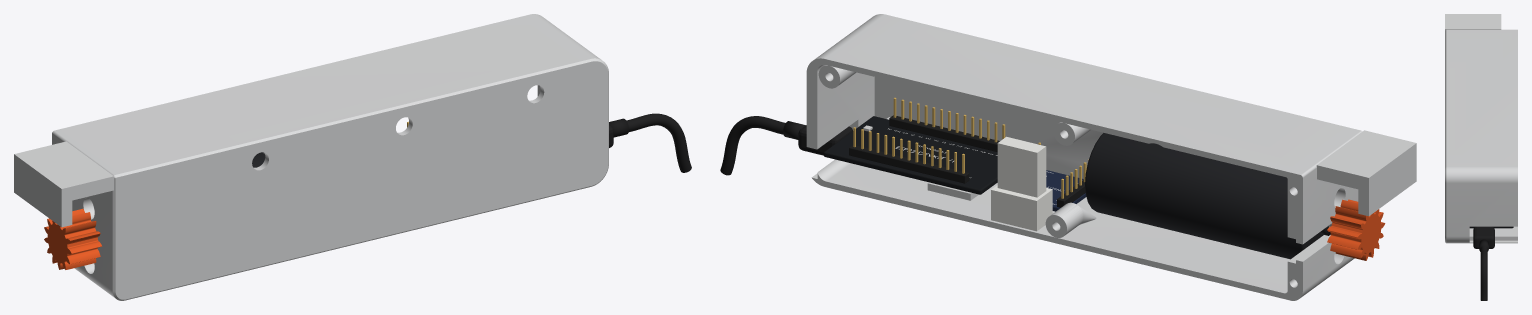
Rendered from v4_open.glb.
3 views of the same model, side by side, from view 1: azimuth 30°, elevation 25°; view 2: azimuth 150°, elevation 25°; view 3: azimuth 270°, elevation 25° (orthographic). The views are drawn at different scales.
Parts seen in each view (by area): view 1: tub, pinion, c; view 2: tub, motor, Cube.001, rail, pinion, Cube.018, Cube.002, c, Cube.036, Cube; view 3: tub, c, Cube, Cylinder, Cube.001.
Boxes of the visible parts, x1,y1,x2,y2 form: tub: (14,14,608,300); pinion: (44,208,101,269); c: (626,113,691,172); tub: (806,14,1416,300); motor: (1085,133,1323,259); Cube.001: (824,116,997,194); rail: (991,136,1052,231); pinion: (1327,199,1385,260); Cube.018: (849,145,969,183); Cube.002: (889,115,999,152); c: (720,116,785,175); Cube.036: (1046,170,1086,211); Cube: (798,125,852,155); tub: (1445,14,1517,243); c: (1480,246,1487,300); Cube: (1473,226,1494,248); Cylinder: (1479,239,1488,251); Cube.001: (1469,226,1513,228).
Bounding box in the file's own units: 0.2166 × 0.0521 × 0.035.
